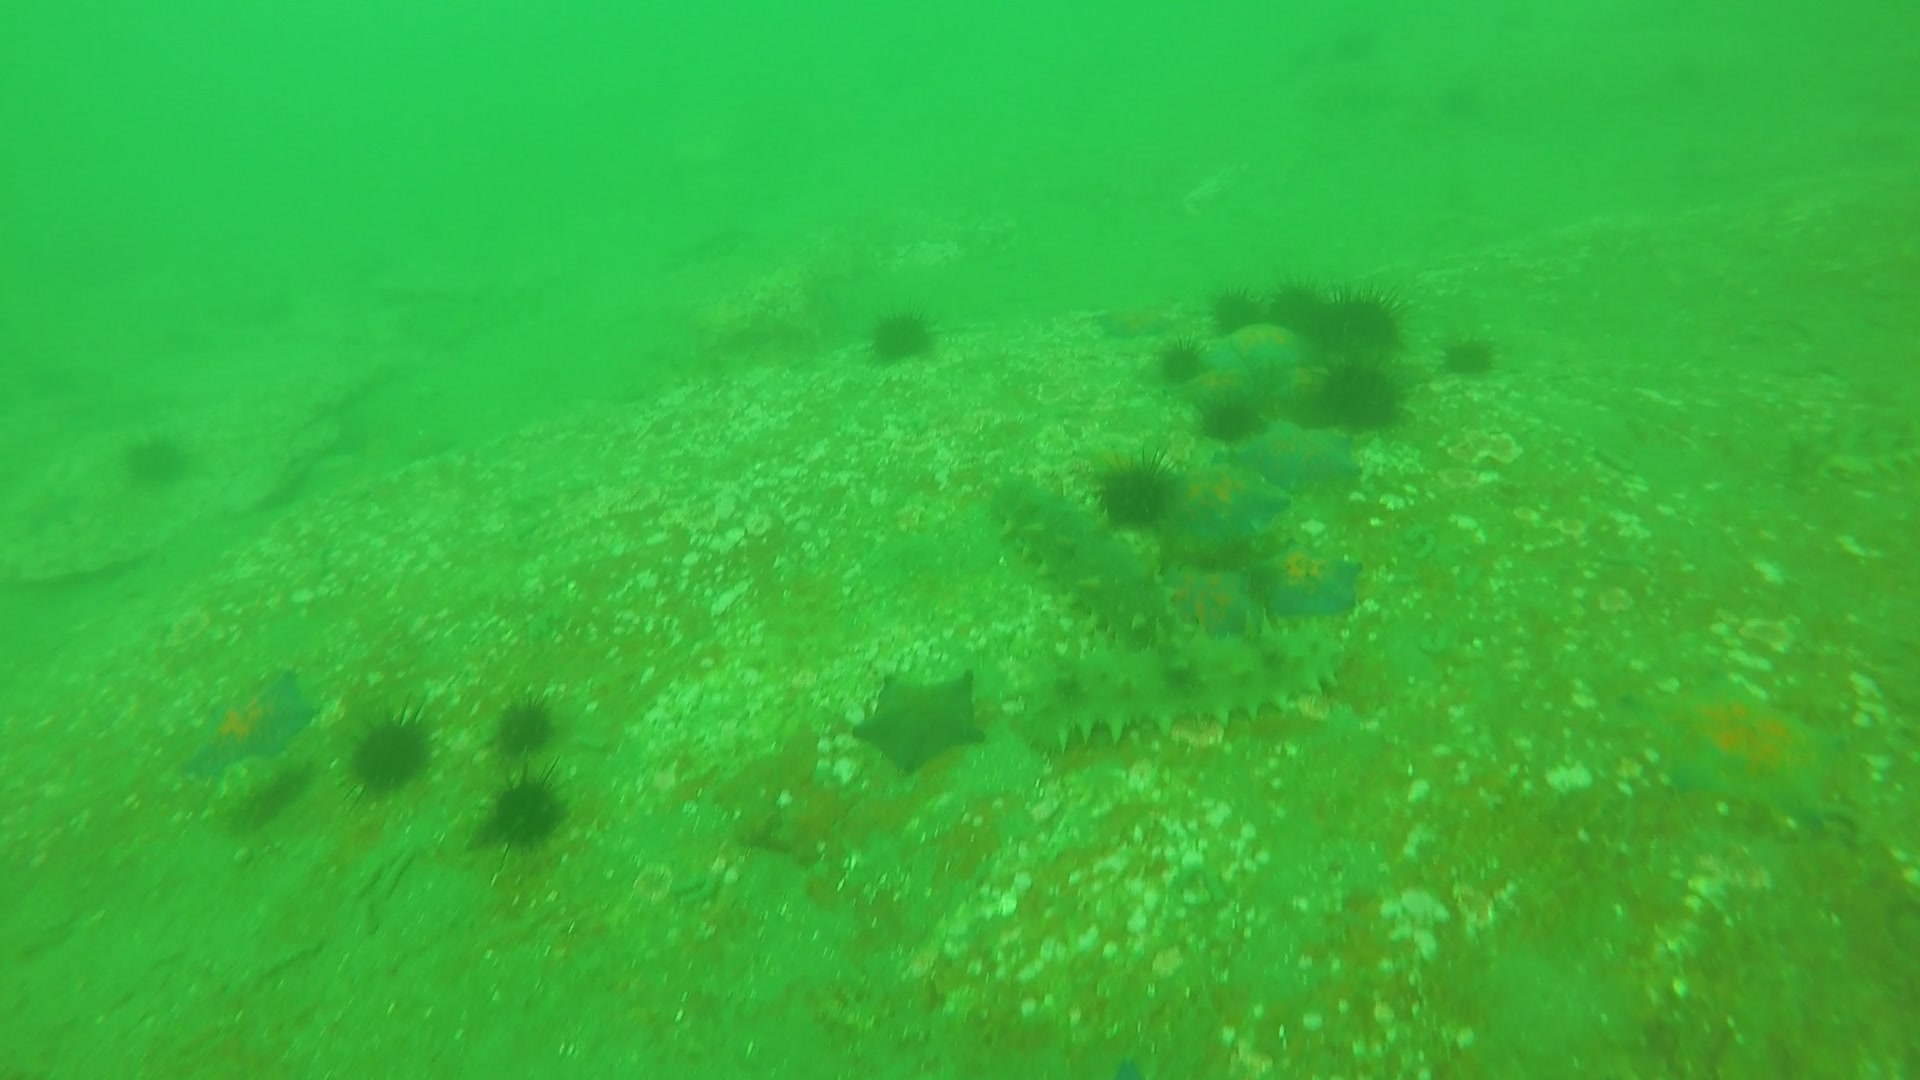echinus: (338, 705, 442, 800), (472, 766, 576, 861), (1097, 443, 1180, 537), (1323, 357, 1414, 438), (1327, 287, 1410, 351), (1189, 392, 1267, 454), (1273, 276, 1342, 342), (493, 694, 560, 758), (121, 429, 191, 491), (868, 303, 924, 364), (1153, 338, 1213, 382), (1203, 289, 1253, 330), (1448, 338, 1494, 381)
holothurian: (1002, 620, 1356, 760), (982, 465, 1184, 644)
starfish: (1610, 667, 1863, 825), (847, 671, 986, 777), (193, 676, 328, 782), (1162, 459, 1276, 553), (1262, 543, 1370, 622), (1280, 425, 1358, 497)
